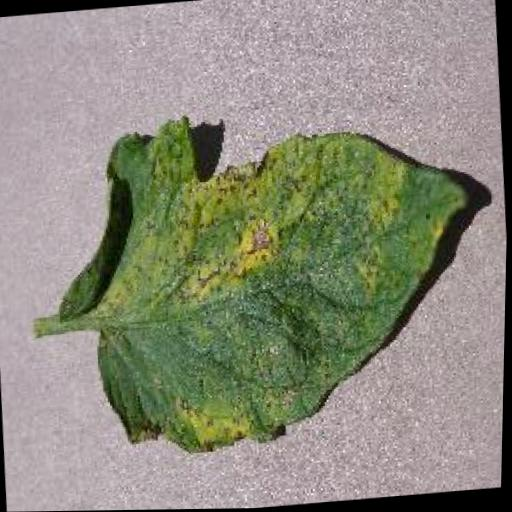Septoria: (40, 89, 492, 464)
